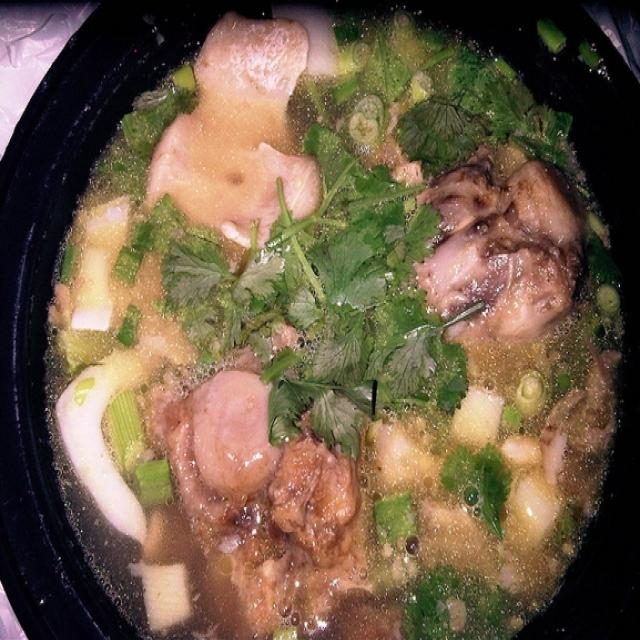汤锅炖物: (40, 24, 599, 615)
